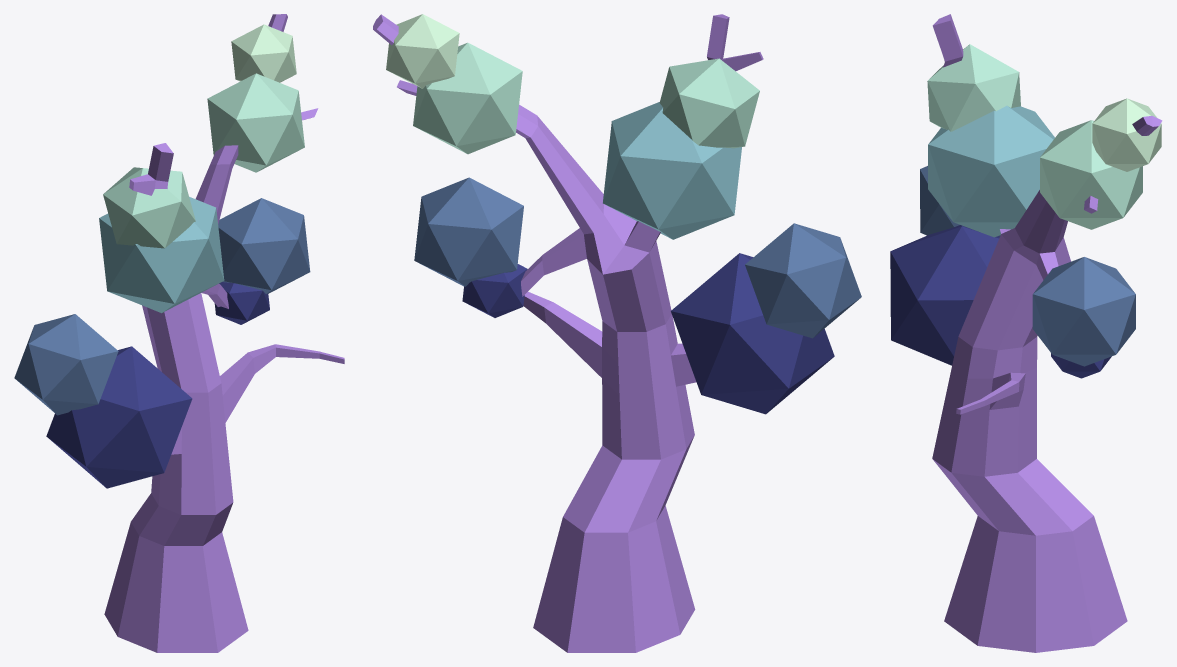
The model's file is 01_04Tree_Blue.fbx.
3 renders of one model, left to right at view 1: azimuth 30°, elevation 25°; view 2: azimuth 150°, elevation 25°; view 3: azimuth 270°, elevation 25°, orthographic. The views are drawn at different scales.
Visible parts, largest first — view 1: Cube.014; view 2: Cube.014; view 3: Cube.014.
Boxes of the visible parts, x1,y1,x2,y2 form: Cube.014: (14, 14, 344, 652); Cube.014: (373, 14, 861, 652); Cube.014: (890, 14, 1162, 652).
Size of the model in its own units: 168 by 251 by 104.
